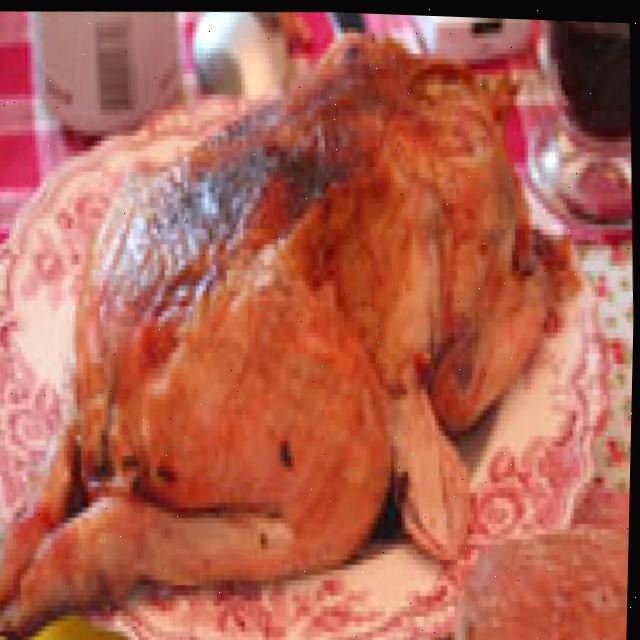鸡肉料理 含炸鸡: (0, 6, 592, 640)
